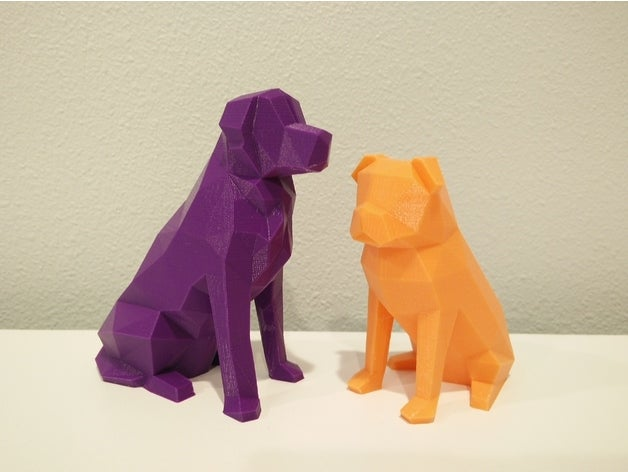Good: (72, 81, 550, 443)
